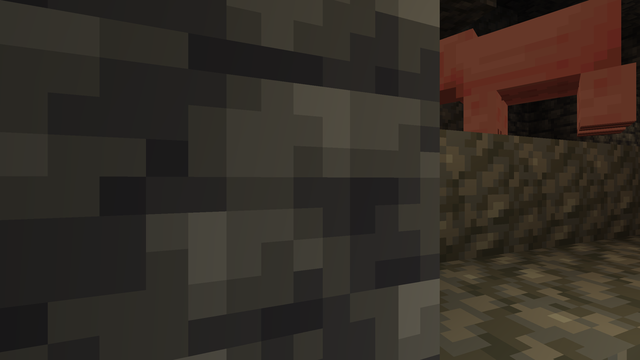cochons: (447, 1, 630, 142)
